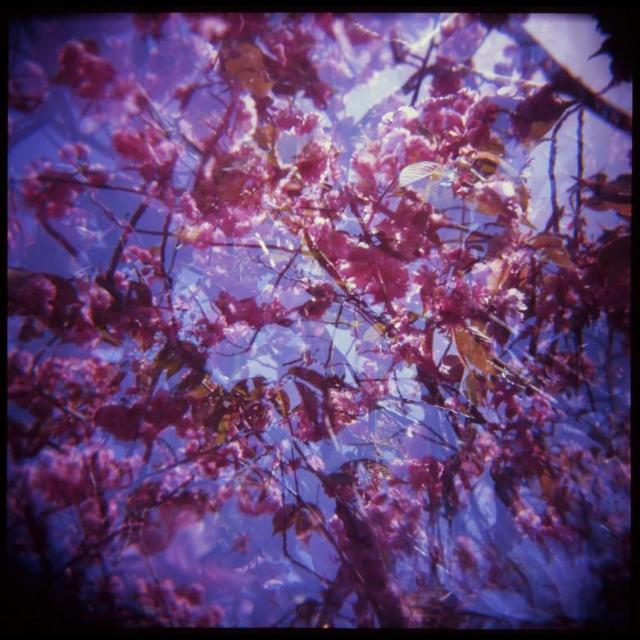Flower: (17, 9, 629, 618)
